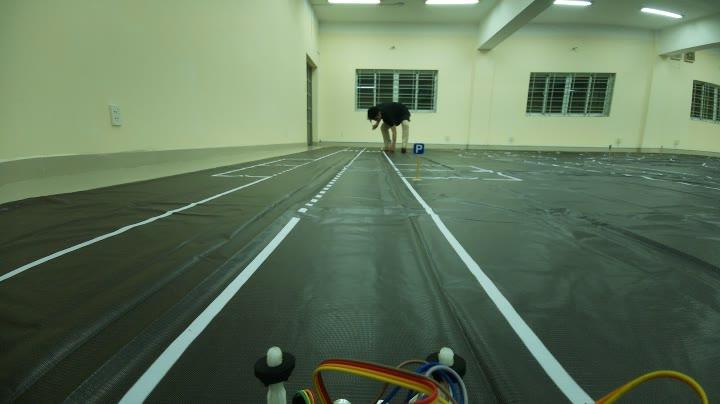parking: (411, 140, 426, 155)
